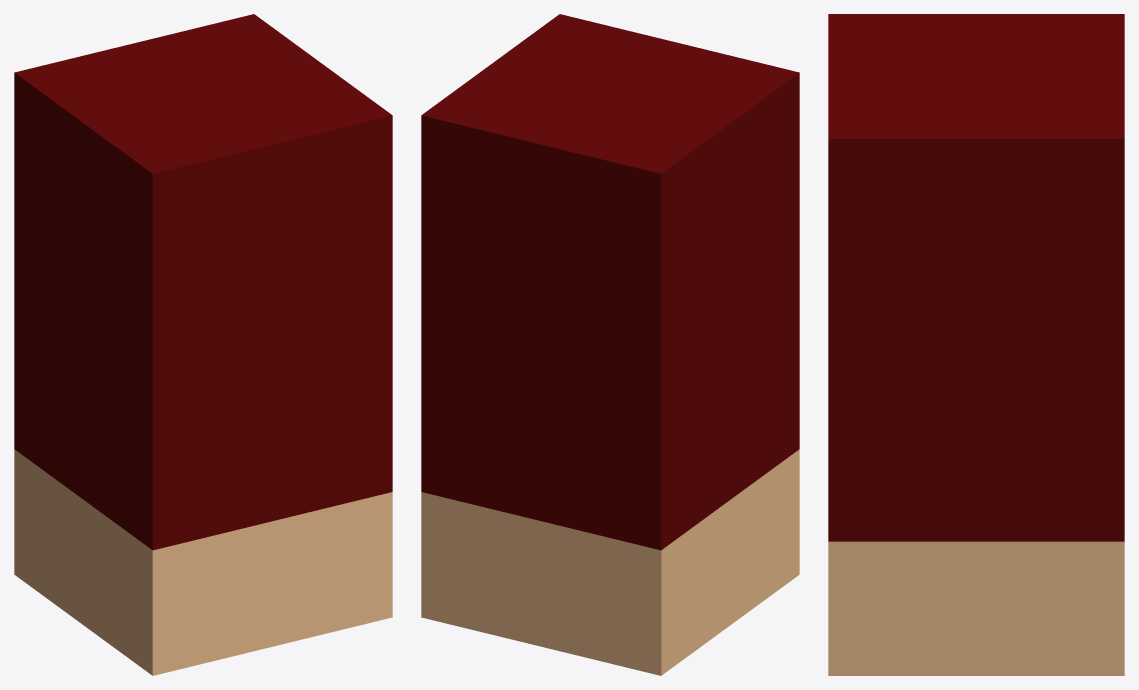
File: leg3.obj
3 renders of one model, left to right at view 1: azimuth 30°, elevation 25°; view 2: azimuth 150°, elevation 25°; view 3: azimuth 270°, elevation 25°, orthographic. The views are drawn at different scales.
Size of the model in its own units: 0.2 by 0.4 by 0.2.
1 material, 1 textured.
